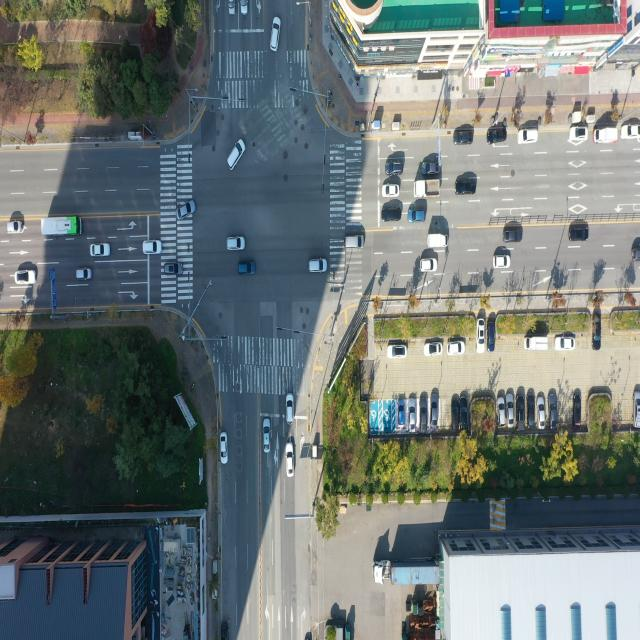car: (228, 139, 247, 174), (473, 316, 487, 354), (516, 126, 540, 146), (89, 241, 112, 259), (285, 437, 295, 478), (175, 200, 195, 220), (486, 126, 507, 145), (454, 179, 476, 197), (142, 238, 164, 256), (453, 128, 474, 146), (263, 416, 273, 453), (548, 393, 558, 430), (272, 17, 282, 53), (226, 236, 246, 254), (631, 390, 640, 430), (420, 160, 441, 177), (14, 270, 36, 286), (218, 431, 228, 466), (343, 234, 366, 249), (592, 312, 601, 350), (308, 257, 328, 274), (515, 394, 524, 431), (238, 260, 256, 278), (429, 395, 438, 431), (424, 341, 444, 357), (163, 261, 184, 276), (387, 343, 408, 358), (621, 123, 640, 139), (284, 394, 294, 424), (382, 207, 402, 222), (418, 396, 426, 433), (502, 230, 522, 244), (75, 266, 92, 282), (408, 398, 416, 432), (537, 396, 545, 430), (573, 392, 581, 426), (569, 228, 587, 243), (396, 401, 406, 428), (452, 395, 459, 433), (528, 390, 535, 427), (557, 336, 574, 351), (449, 341, 466, 356), (409, 209, 427, 223), (460, 394, 467, 430), (506, 393, 513, 429), (488, 321, 496, 351), (8, 220, 24, 234), (420, 260, 436, 274), (383, 184, 400, 196), (386, 164, 403, 176), (571, 129, 586, 142), (498, 398, 504, 427), (496, 256, 510, 268)
large_bus: (42, 215, 82, 238)
large_truck: (372, 555, 440, 588)
small_truck: (413, 178, 441, 200), (525, 333, 551, 353), (593, 126, 619, 144), (427, 234, 448, 250)
